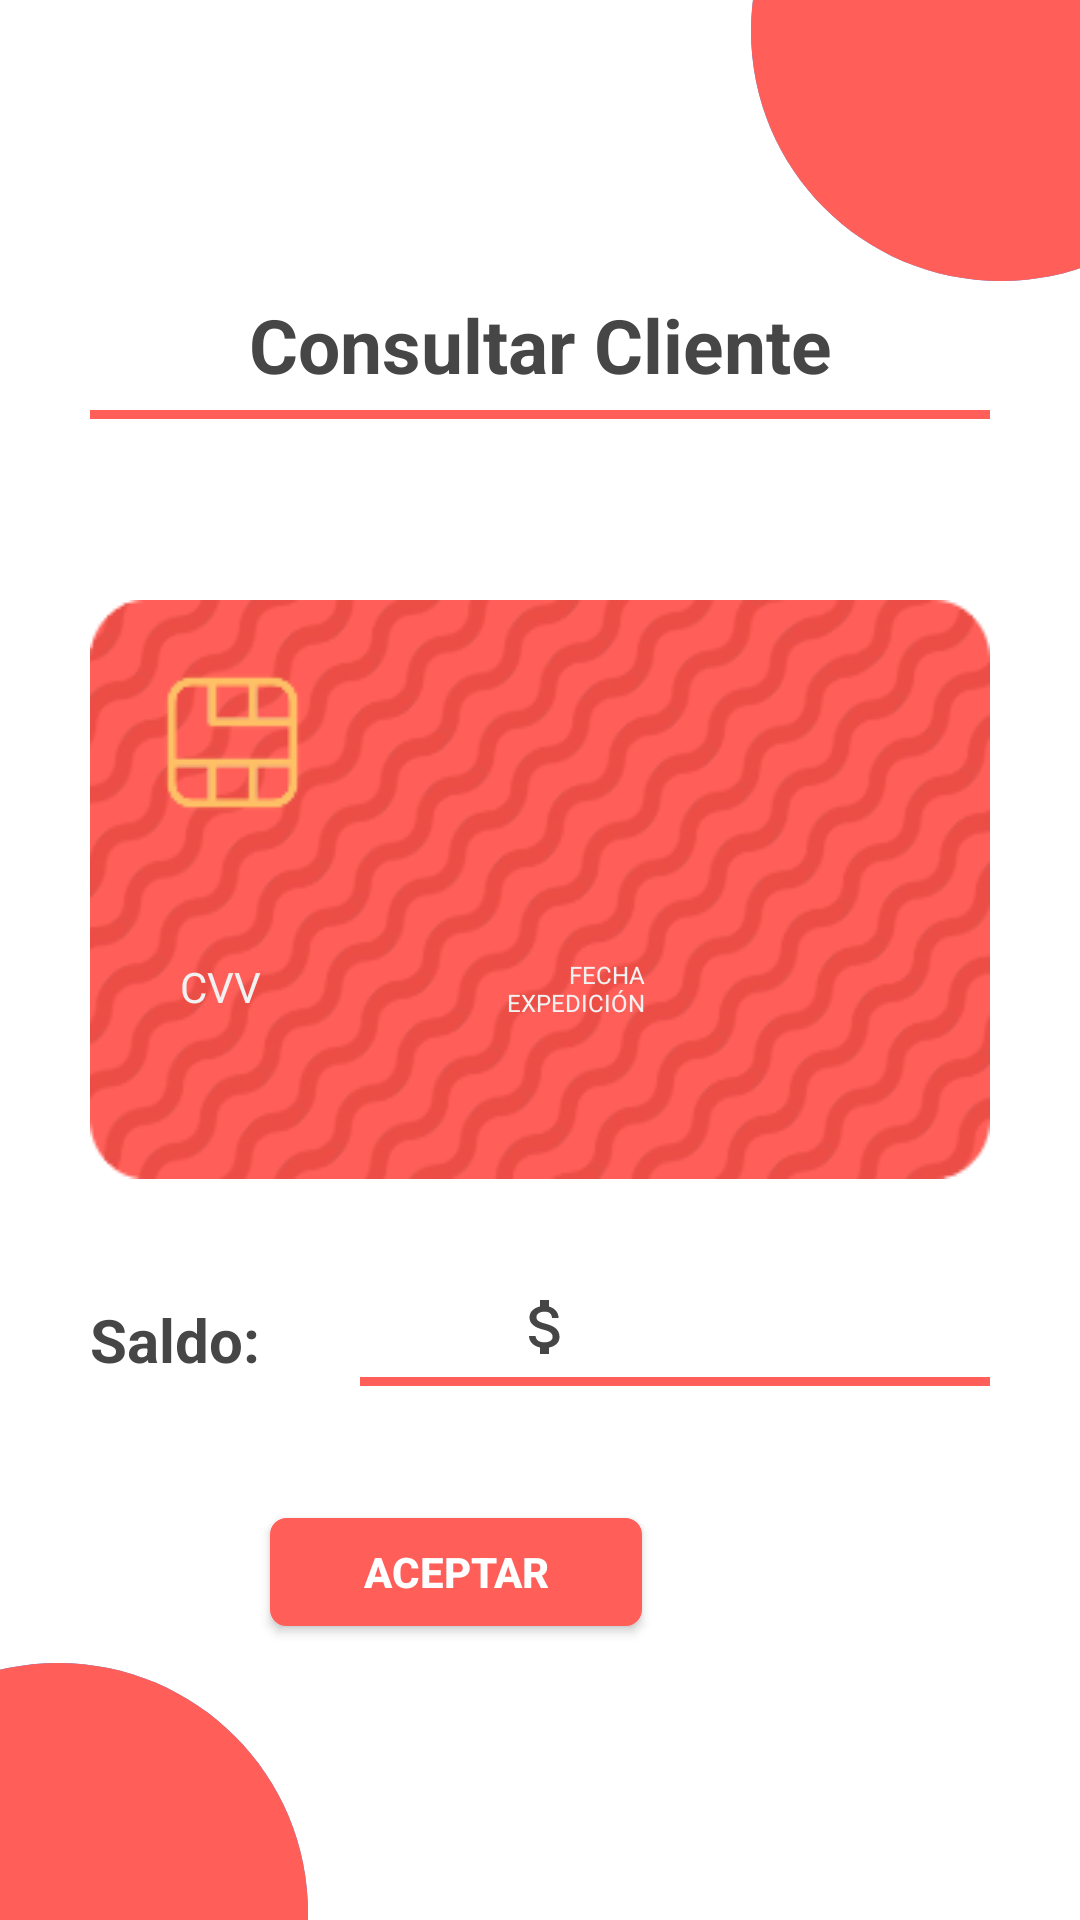

Point at icon controls on the screen. Image size 1080 × 1920, points as (x,y).
chip: (232,747)
